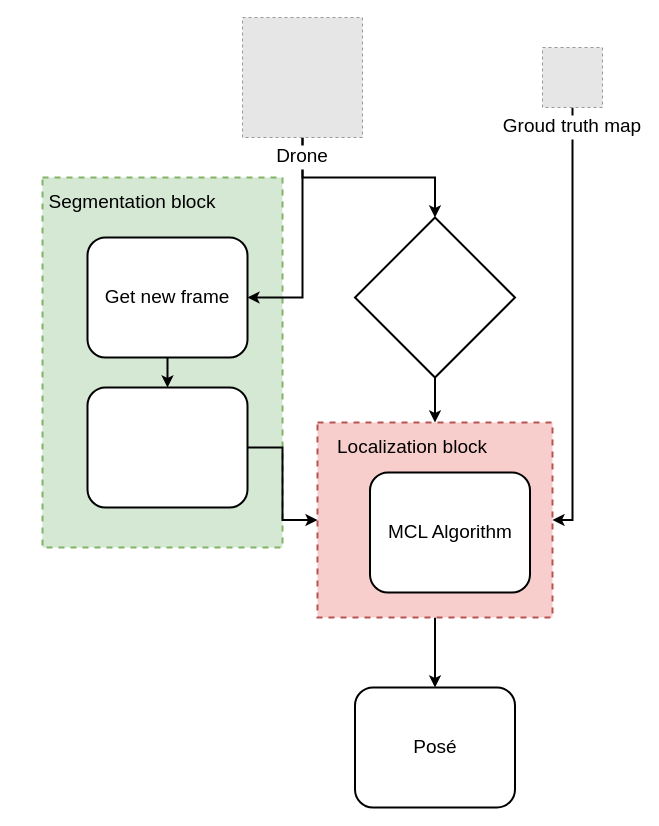
The diagram is 659 pixels wide and 826 high, and some of its shapes have lost their labels. Grey dashed boxes stand in for pictures. Here are the shapes that lost their labels. From the top down, the centre of each, then its label:
At point (435, 297): "Height/Heading data".
At point (167, 447): "Segment image".
